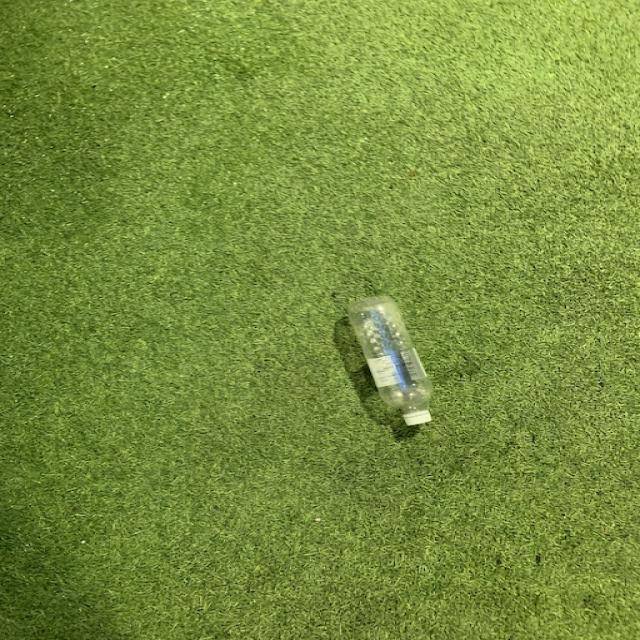litter: (345, 295, 439, 432)
